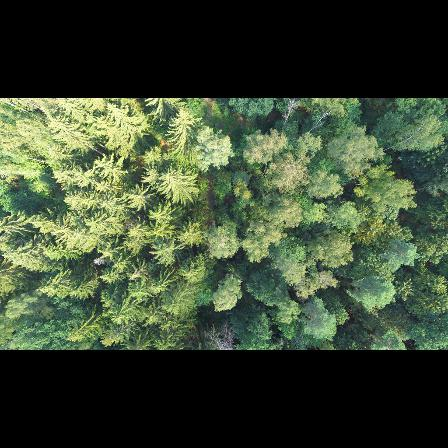Dead: (203, 320, 237, 350), (306, 109, 330, 136), (281, 98, 296, 127), (91, 255, 107, 266)
